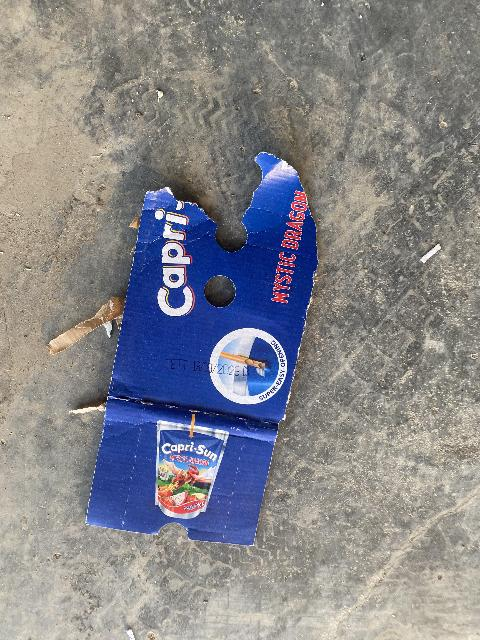Kagit: (59, 137, 349, 554), (418, 240, 441, 265)
